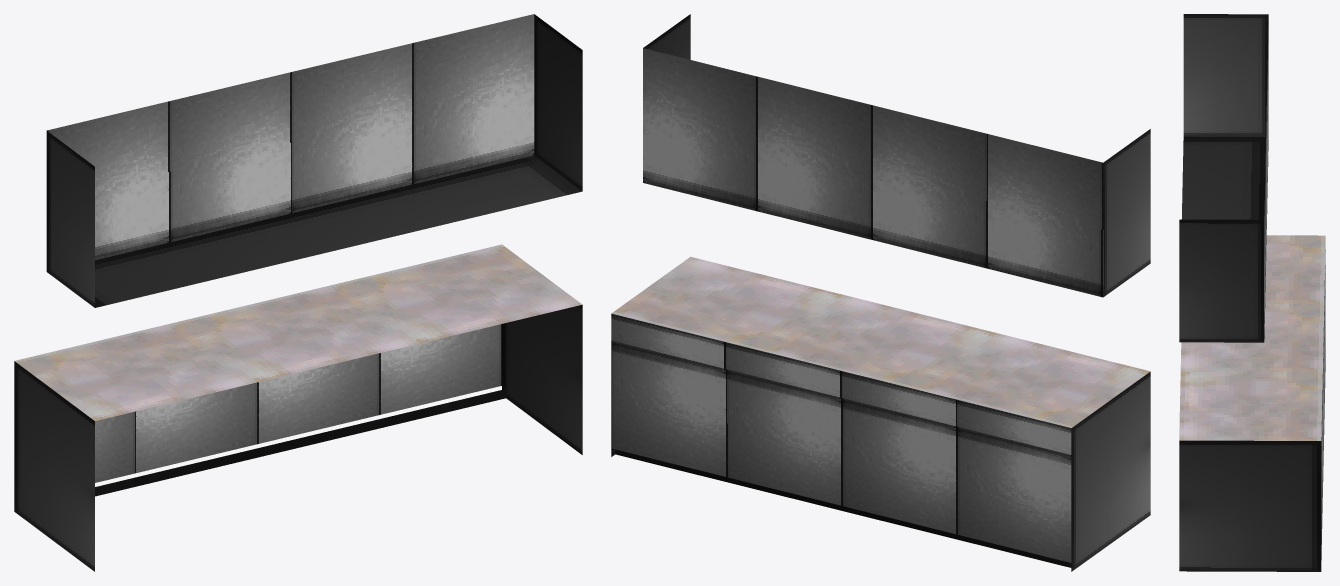
File: primary_136.glb
3 renders of one model, left to right at view 1: azimuth 30°, elevation 25°; view 2: azimuth 150°, elevation 25°; view 3: azimuth 270°, elevation 25°, orthographic. The views are drawn at different scales.
Parts seen in each view (by area): view 1: Object; view 2: Object; view 3: Object.
Part boxes in pixels (left/top/right/bottom): Object: left=14, top=14, right=582, bottom=571; Object: left=611, top=14, right=1150, bottom=571; Object: left=1179, top=14, right=1325, bottom=571.
Size of the model in its own units: 3.56 by 2.84 by 1.07.
Materials: 7 (7 with a texture image).
